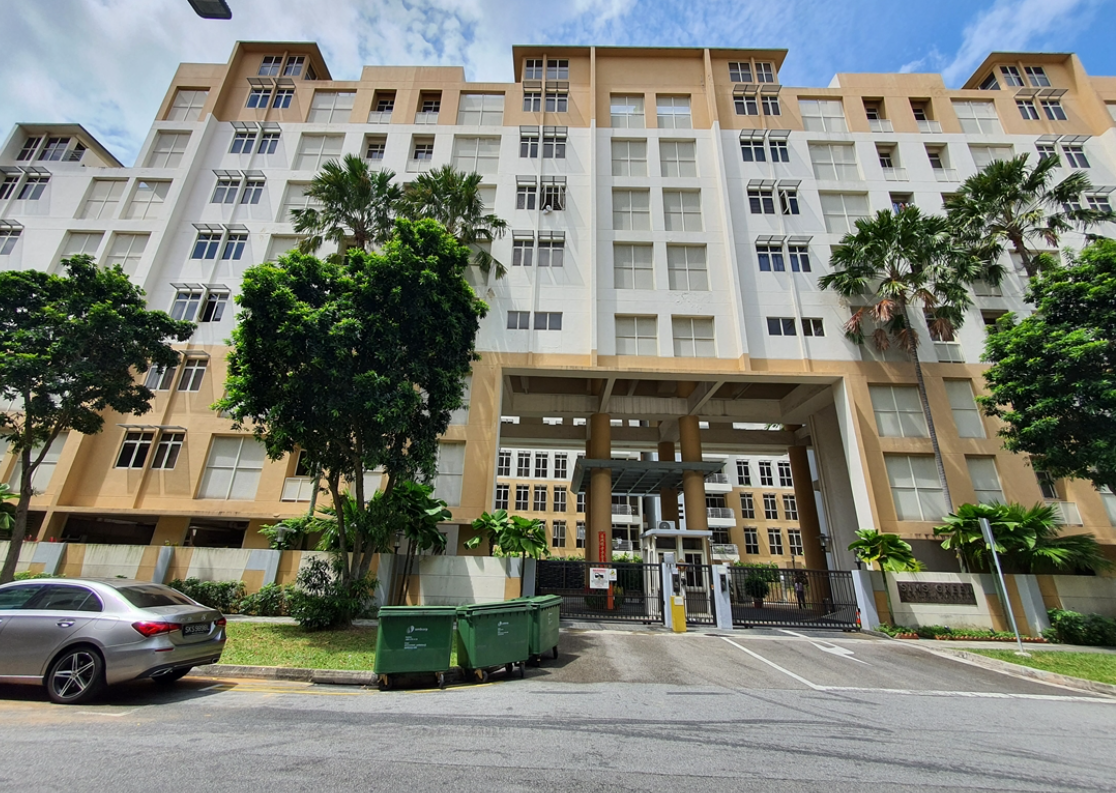bin_empty: (374, 607, 454, 682), (458, 601, 528, 681), (520, 595, 561, 664)
vehicle: (0, 579, 224, 703)
